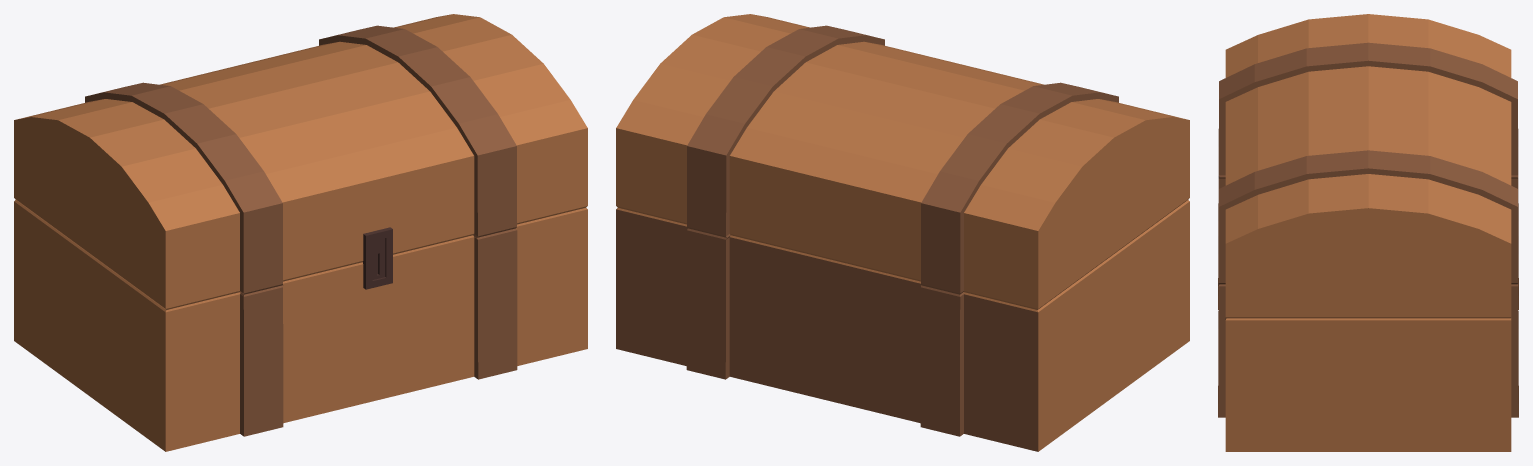
Rendered from Prop_Chest.fbx.
3 renders of one model, left to right at view 1: azimuth 30°, elevation 25°; view 2: azimuth 150°, elevation 25°; view 3: azimuth 270°, elevation 25°, orthographic. The views are drawn at different scales.
Visible parts, largest first — view 1: Prop_Chest; view 2: Prop_Chest; view 3: Prop_Chest.
Boxes of the visible parts, box(x1,y1,x2,y2) form: Prop_Chest: box(14, 14, 587, 451); Prop_Chest: box(616, 14, 1189, 451); Prop_Chest: box(1218, 14, 1518, 451).
Bounding box in the file's own units: 100 × 59.9 × 65.48.
